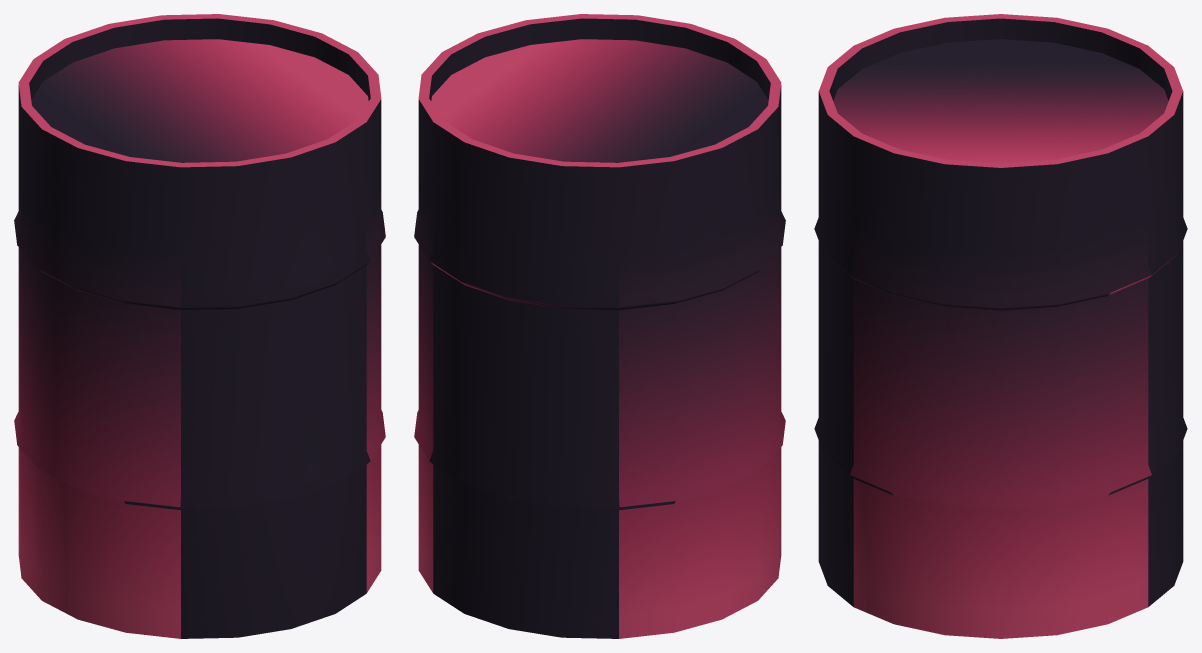
The model's file is Props_Barrel2_Geo.obj.
The picture shows the model from 3 angles, left to right: view 1: azimuth 30°, elevation 25°; view 2: azimuth 150°, elevation 25°; view 3: azimuth 270°, elevation 25°; orthographic projection.
Visible parts, largest first — view 1: pCylinder71; view 2: pCylinder71; view 3: pCylinder71.
Boxes of the visible parts, x1,y1,x2,y2 form: pCylinder71: (14, 14, 385, 638); pCylinder71: (414, 14, 785, 638); pCylinder71: (814, 14, 1187, 638).
Bounding box in the file's own units: 0.8195 × 1.14 × 0.8195.
1 material, 1 textured.
